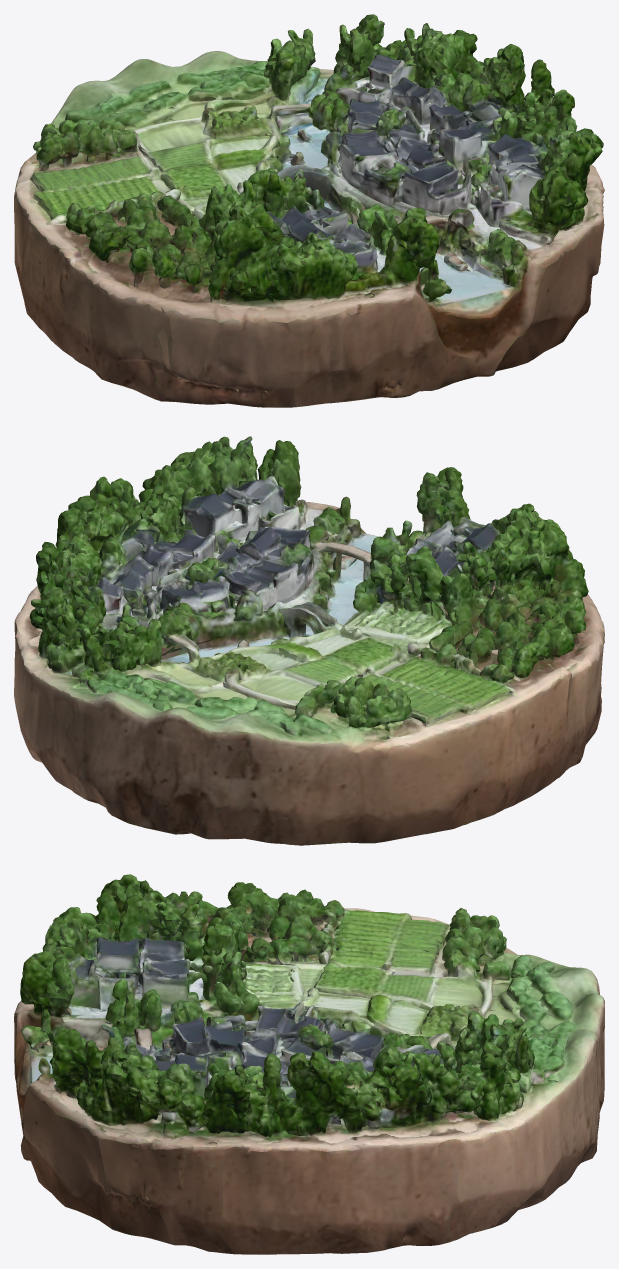
The model's file is tengtou.min.glb.
3 views of the same model, one above another, from view 1: azimuth 30°, elevation 25°; view 2: azimuth 150°, elevation 25°; view 3: azimuth 270°, elevation 25° (orthographic). The views are drawn at different scales.
Visible parts, largest first — view 1: geometry_0; view 2: geometry_0; view 3: geometry_0.
Boxes of the visible parts, bbox=[...] form: geometry_0: bbox=[14, 14, 604, 407]; geometry_0: bbox=[14, 436, 604, 845]; geometry_0: bbox=[14, 874, 604, 1254].
Bounding box in the file's own units: 0.35 × 0.1312 × 0.351.
1 material, 1 textured.
